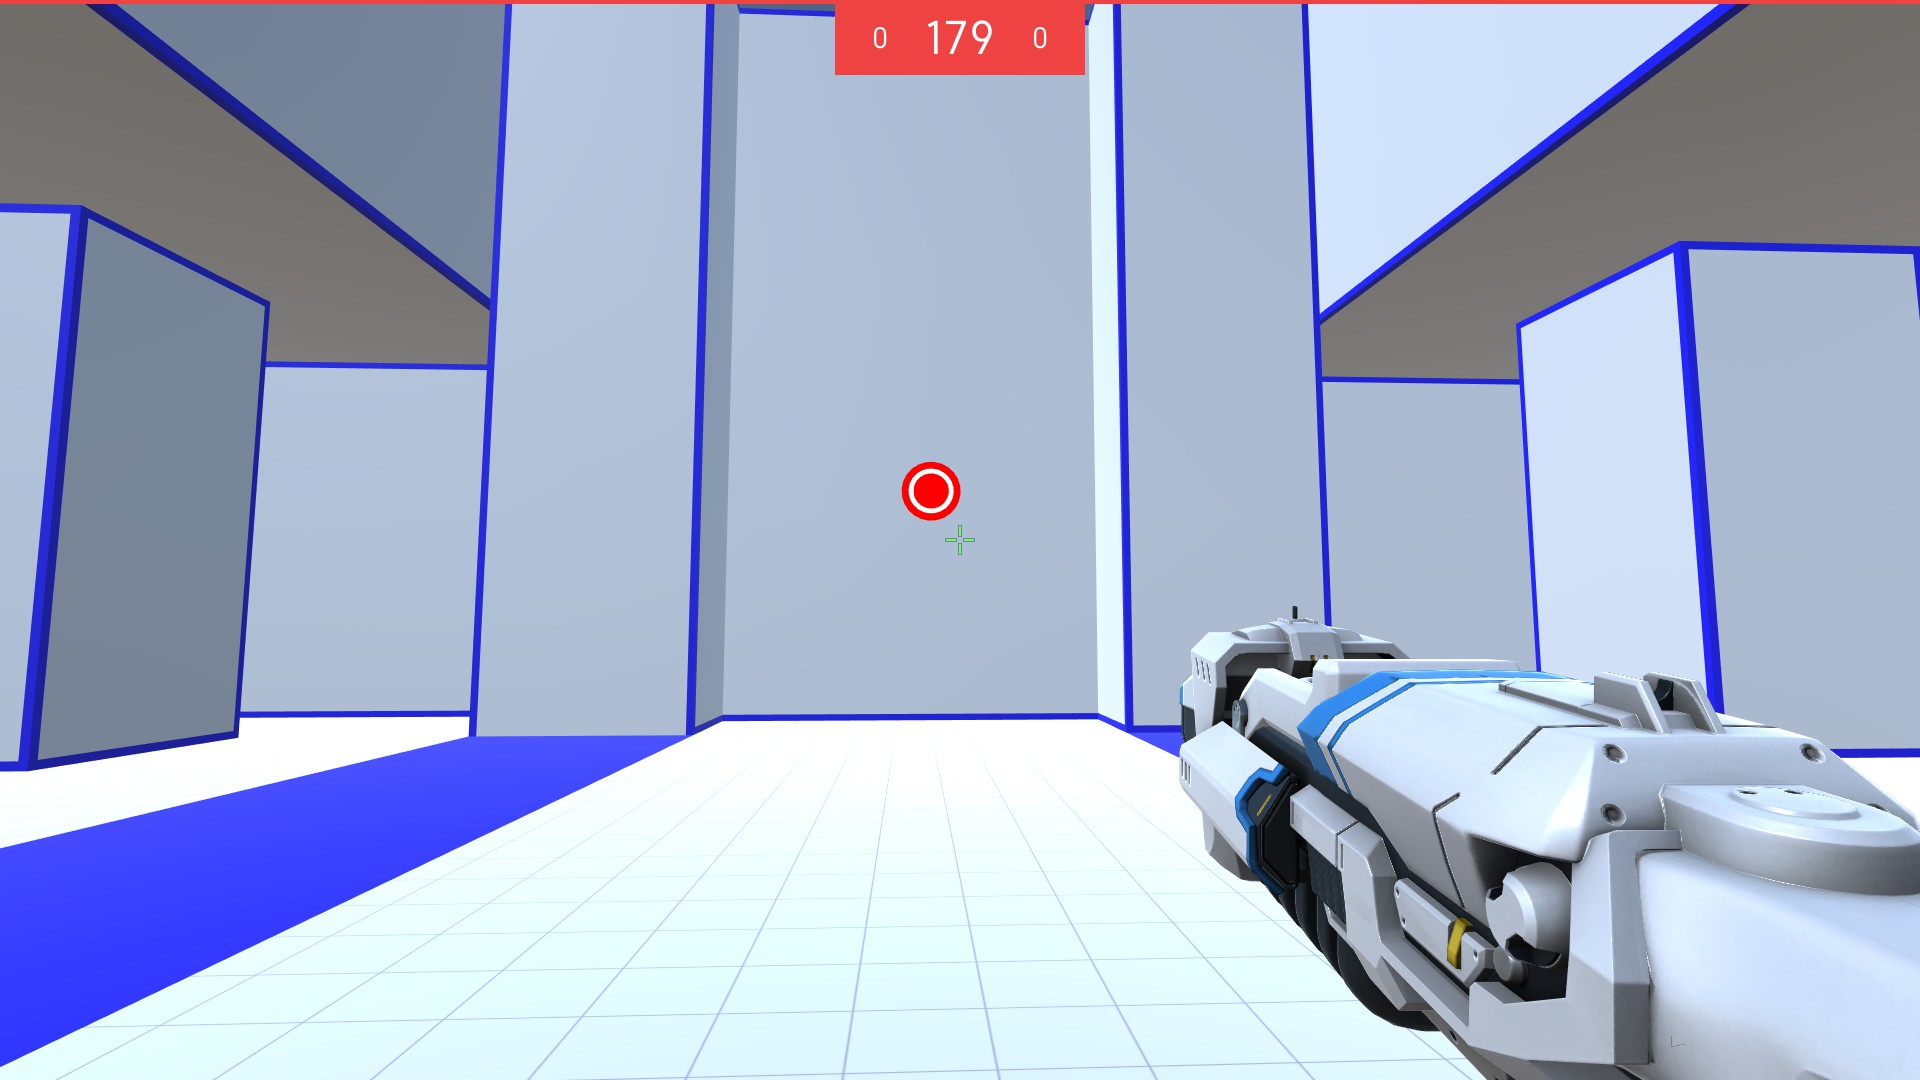target: (898, 462, 960, 521)
